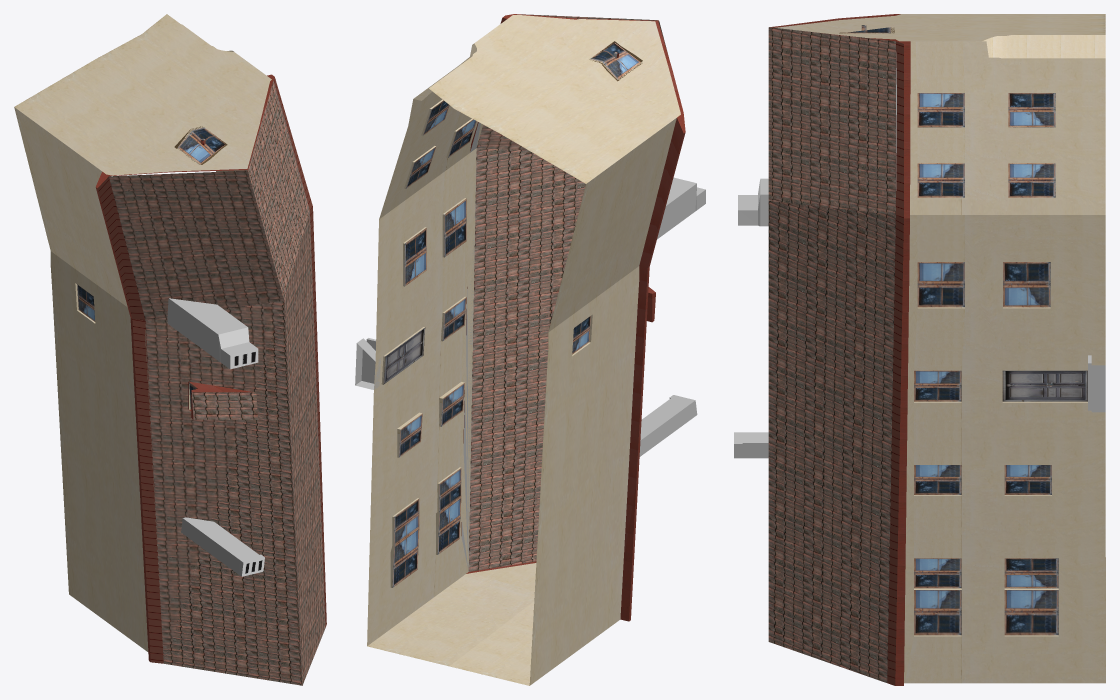
File: Kooli10-origo.obj
The picture shows the model from 3 angles, left to right: view 1: azimuth 30°, elevation 25°; view 2: azimuth 150°, elevation 25°; view 3: azimuth 270°, elevation 25°; orthographic projection. The views are drawn at different scales.
Parts seen in each view (by area): view 1: Kooli10; view 2: Kooli10; view 3: Kooli10.
Part boxes in pixels (x1,y1,x2,y2): Kooli10: (14,14,326,685); Kooli10: (355,14,705,685); Kooli10: (734,14,1105,685).
Size of the model in its own units: 8.69 by 20 by 10.94.
